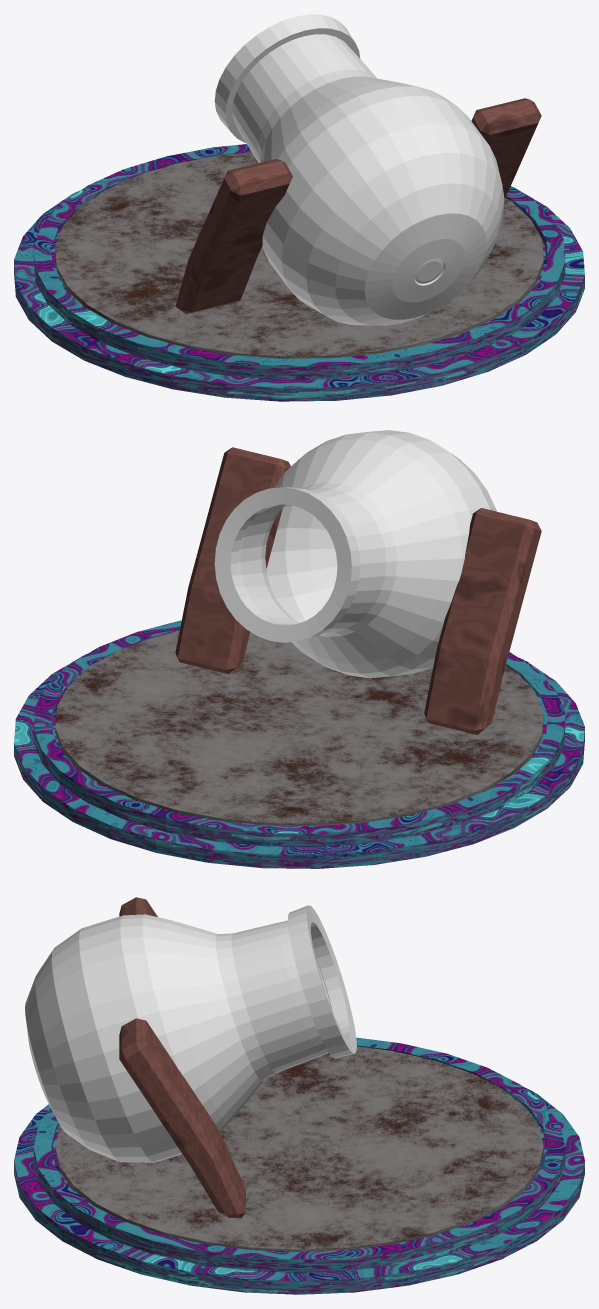
The model's file is CannonTower_electric.fbx.
3 renders of one model, top to bottom at view 1: azimuth 30°, elevation 25°; view 2: azimuth 150°, elevation 25°; view 3: azimuth 270°, elevation 25°, orthographic.
Visible parts, largest first — view 1: Cannon_head, Da_moving_part, Base, Support; view 2: Da_moving_part, Cannon_head, Base, Support; view 3: Da_moving_part, Cannon_head, Base, Support.
Boxes of the visible parts, box(x1,y1,x2,y2) form: Cannon_head: box(214, 14, 504, 325); Da_moving_part: box(55, 152, 543, 358); Base: box(14, 144, 584, 401); Support: box(175, 98, 541, 314); Da_moving_part: box(55, 631, 543, 826); Cannon_head: box(214, 430, 496, 678); Base: box(14, 620, 584, 868); Support: box(175, 447, 541, 734); Da_moving_part: box(55, 1046, 543, 1251); Cannon_head: box(25, 905, 356, 1162); Base: box(14, 1037, 584, 1294); Support: box(119, 897, 245, 1218).
Bounding box in the file's own units: 1130 × 570 × 1130.
